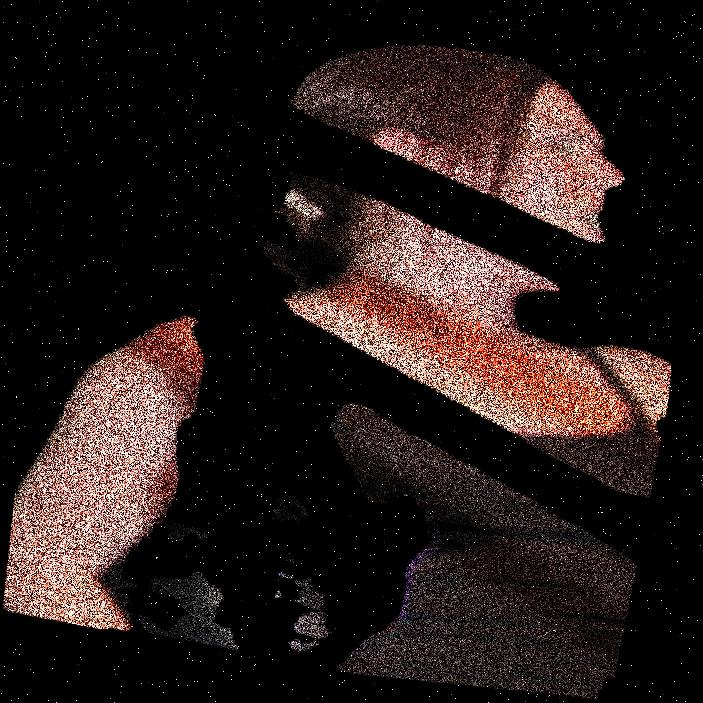Pessoa: (395, 0, 602, 702)
